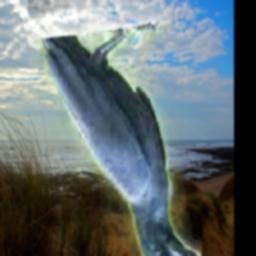Crow: (28, 0, 202, 256)
